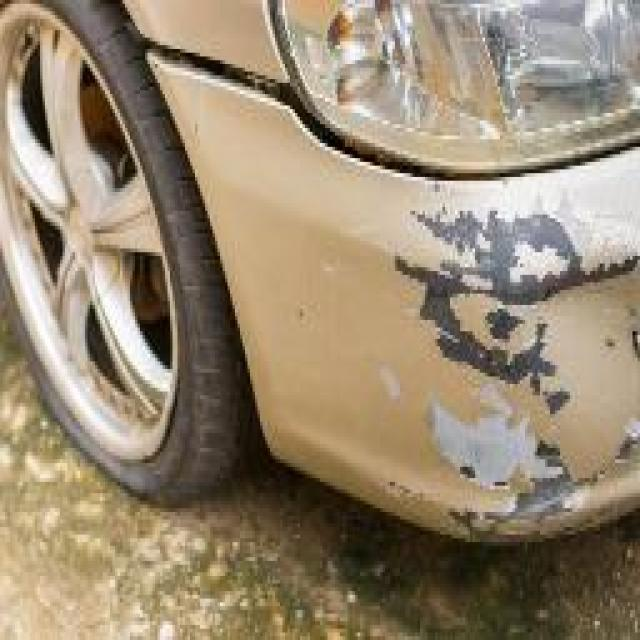Bumper: (170, 68, 640, 595)
